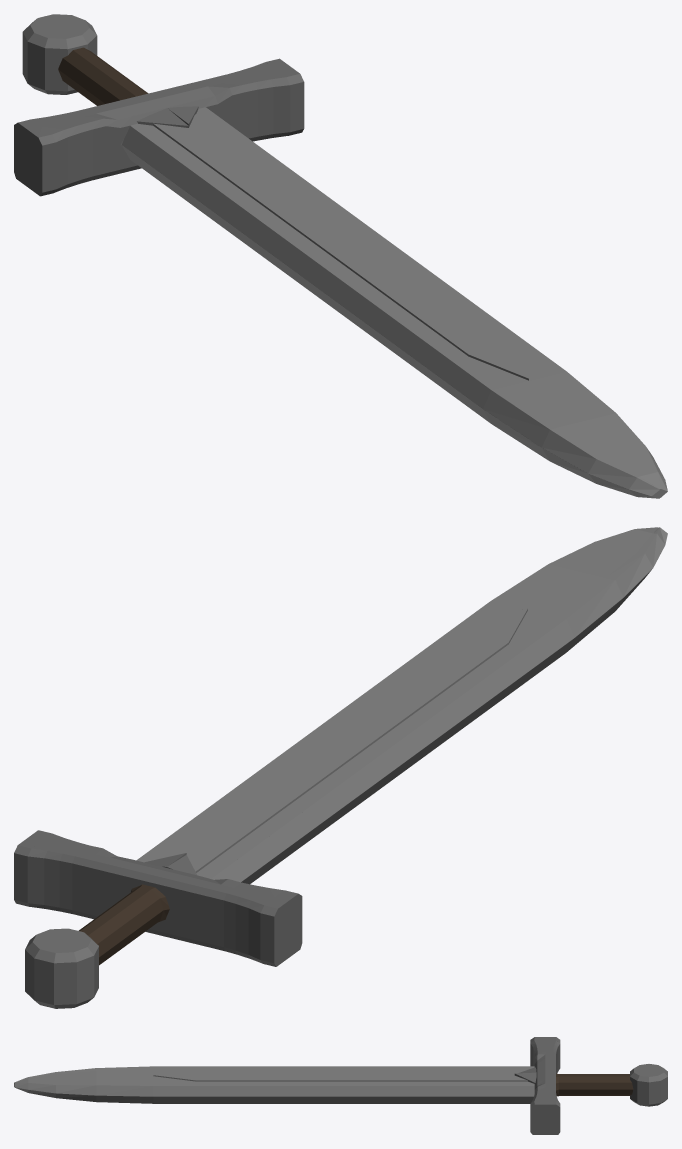
Rendered from sword.fbx.
The picture shows the model from 3 angles, top to bottom: view 1: azimuth 30°, elevation 25°; view 2: azimuth 150°, elevation 25°; view 3: azimuth 270°, elevation 25°; orthographic projection. The views are drawn at different scales.
Visible parts, largest first — view 1: polySurface6; view 2: polySurface6; view 3: polySurface6.
Boxes of the visible parts, bbox=[...] form: polySurface6: bbox=[14, 14, 667, 498]; polySurface6: bbox=[14, 527, 667, 1008]; polySurface6: bbox=[14, 1037, 667, 1134].
Size of the model in its own units: 31.65 by 6.68 by 129.
